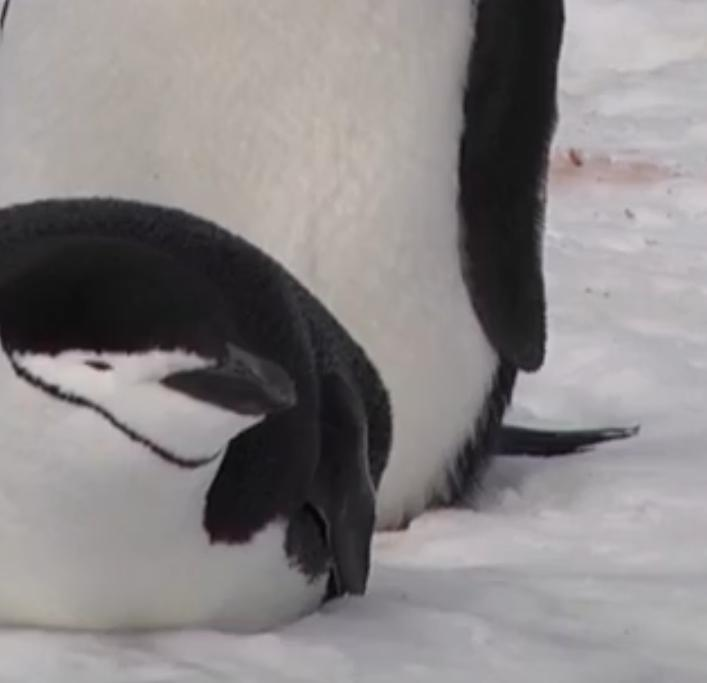Chinstrap Penguin: (0, 230, 403, 643), (7, 0, 576, 224)
